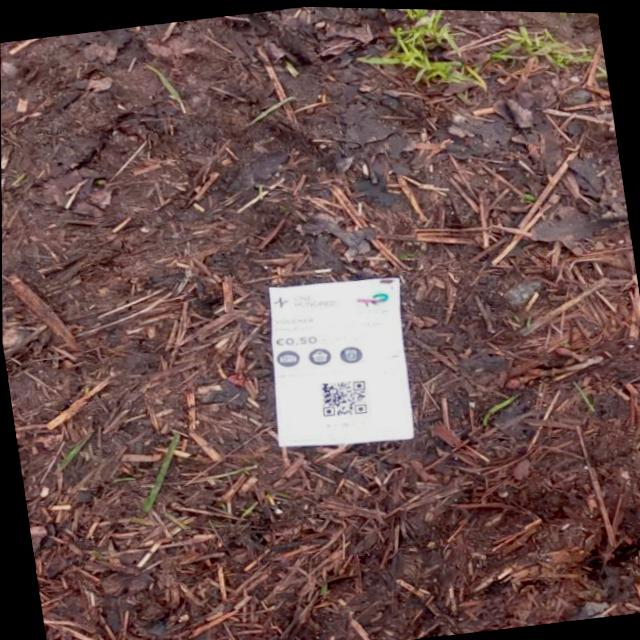Paper: (248, 261, 427, 458)
